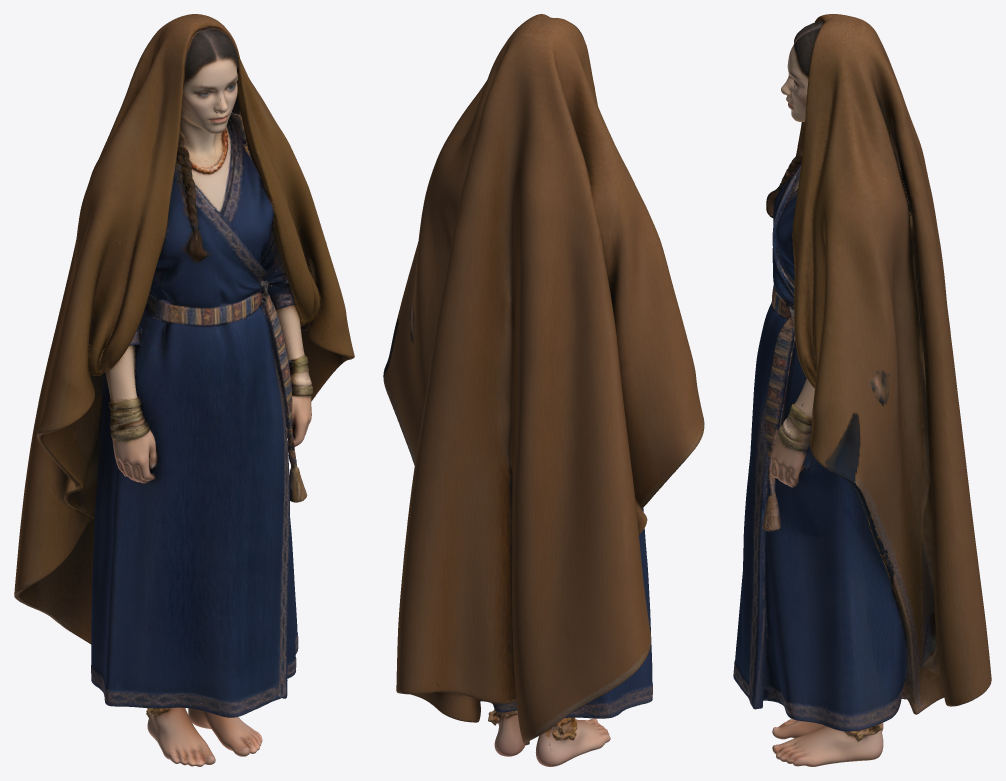
File: leah.glb
3 views of the same model, side by side, from view 1: azimuth 30°, elevation 25°; view 2: azimuth 150°, elevation 25°; view 3: azimuth 270°, elevation 25° (orthographic).
Size of the model in its own units: 0.9 by 2 by 0.6425.
Materials: 1 (1 with a texture image).
